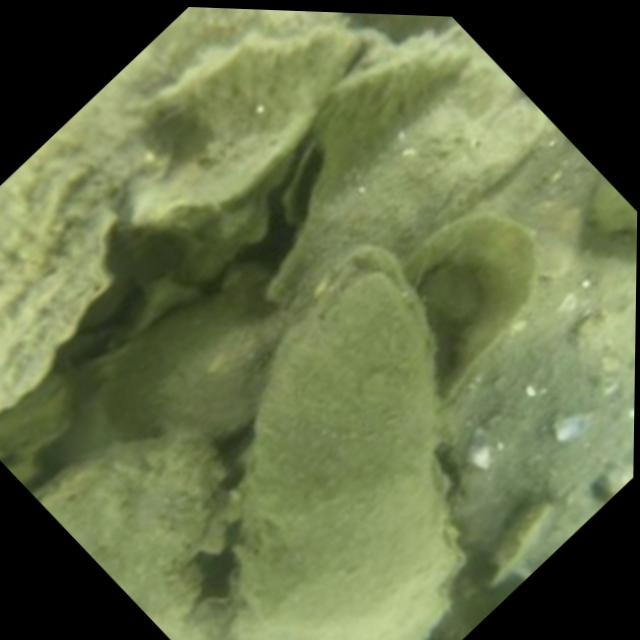Oyster-Closed: (237, 242, 458, 640), (124, 22, 393, 243)
Oyster-Indeterminate: (0, 7, 343, 413), (277, 30, 546, 305), (451, 285, 636, 574), (38, 432, 221, 623), (394, 205, 537, 408), (99, 294, 278, 438), (313, 40, 477, 160)
